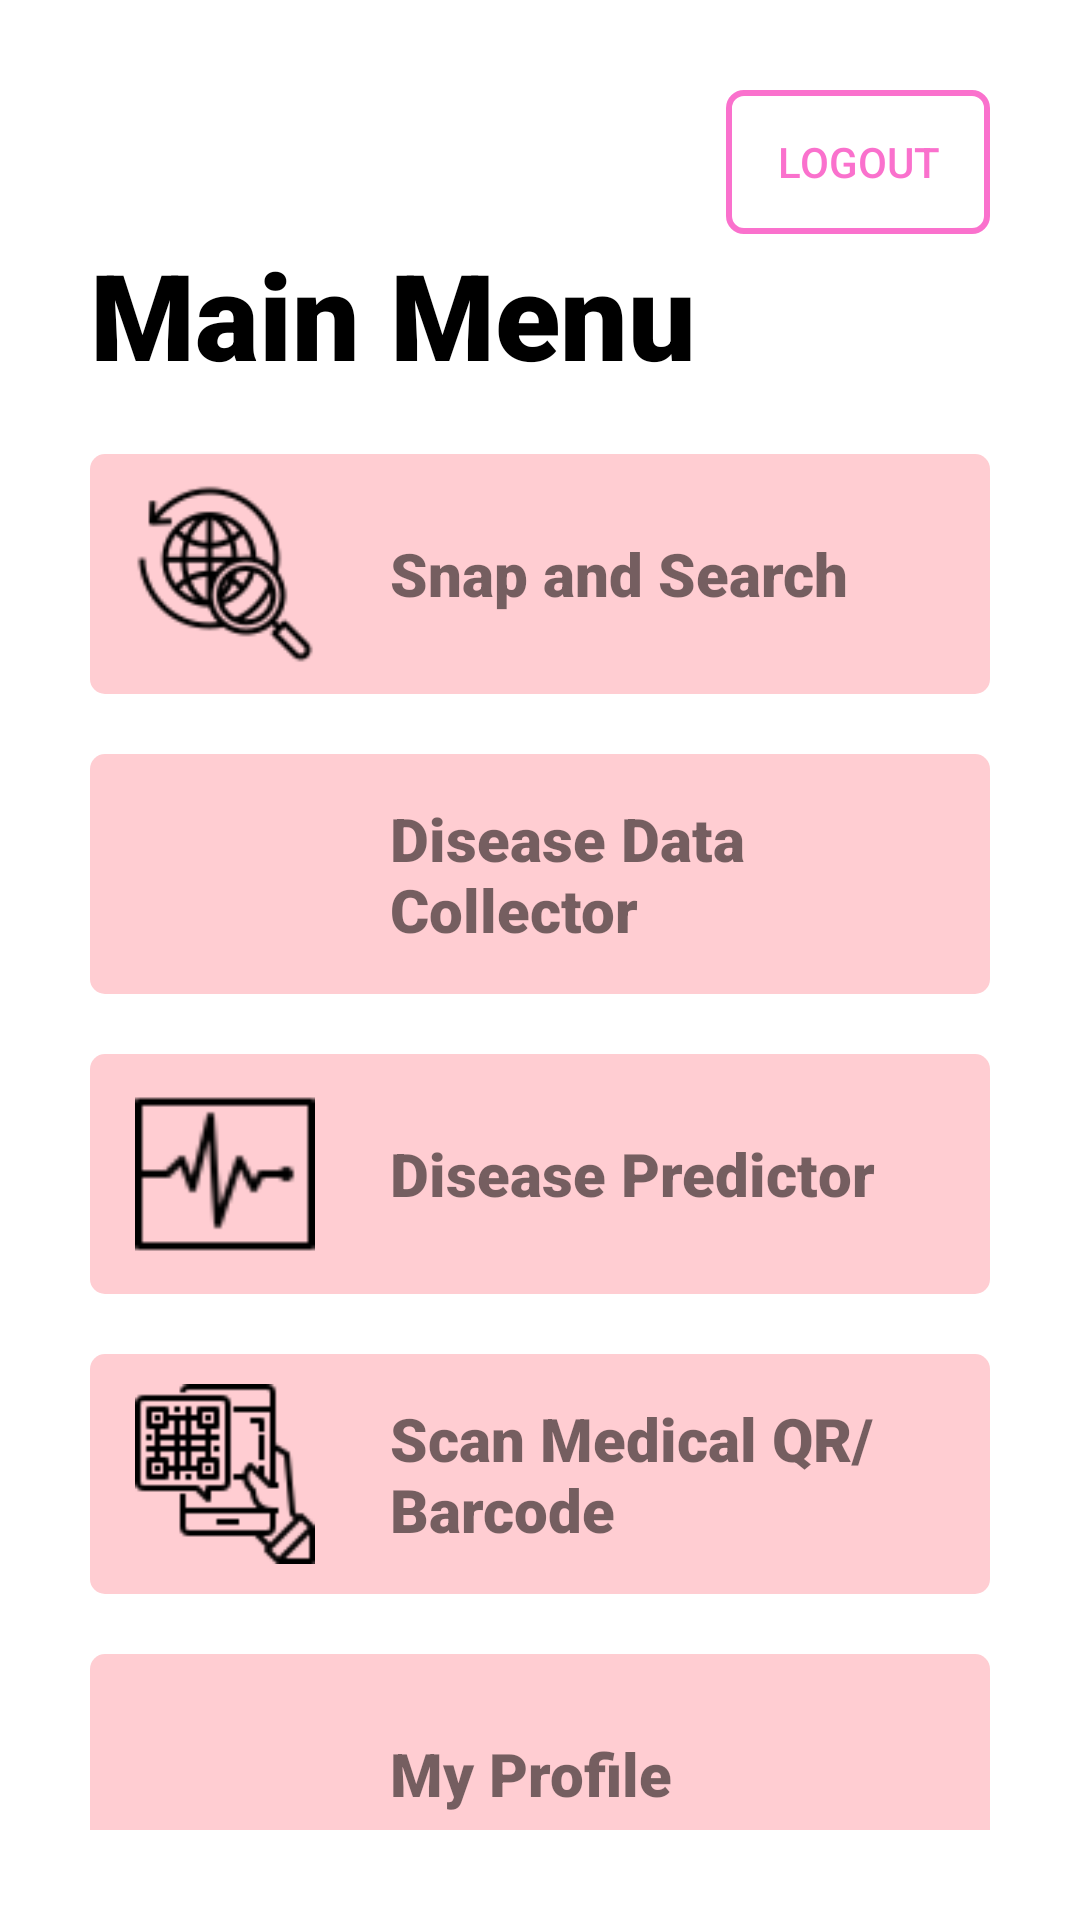

Icon click points for this 1080px×1920px phone screenshot, format (x,y):
qrcode: (225,1474)
